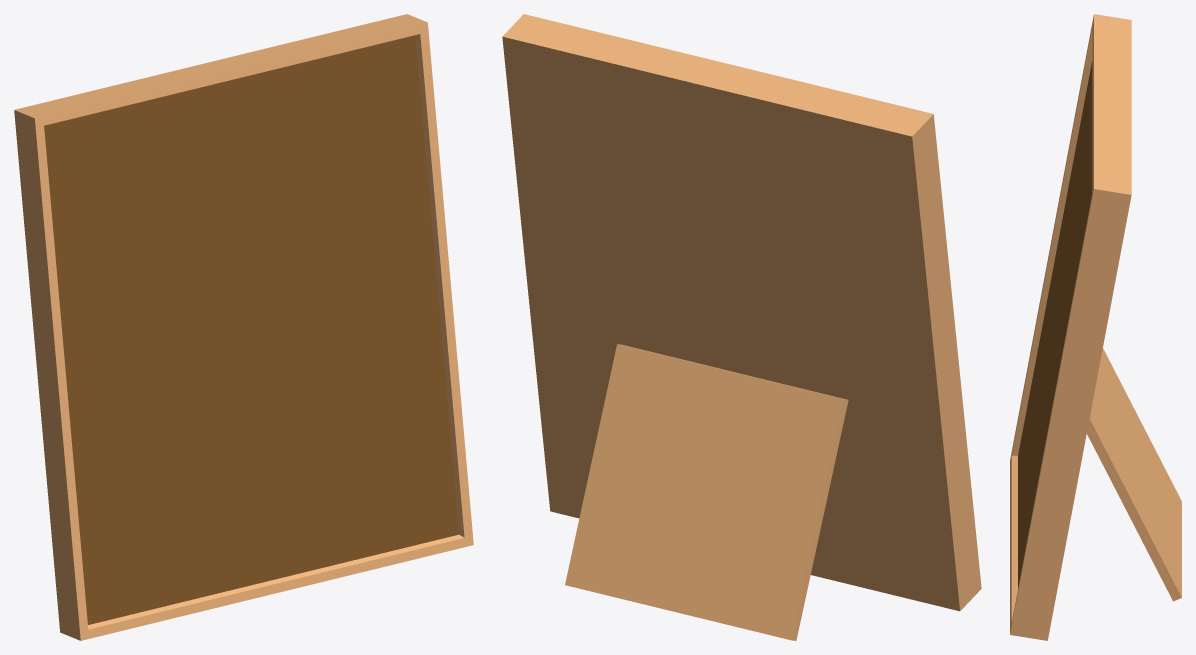
The model's file is Picture Frame_27.fbx.
3 views of the same model, side by side, from view 1: azimuth 30°, elevation 25°; view 2: azimuth 150°, elevation 25°; view 3: azimuth 270°, elevation 25° (orthographic). The views are drawn at different scales.
Visible parts, largest first — view 1: Picture Frame_27; view 2: Picture Frame_27; view 3: Picture Frame_27.
Part boxes in pixels (left/top/right/bottom): Picture Frame_27: left=14, top=14, right=473, bottom=640; Picture Frame_27: left=502, top=14, right=981, bottom=640; Picture Frame_27: left=1010, top=14, right=1181, bottom=640.
Bounding box in the file's own units: 0.1791 × 0.2158 × 0.0743.
